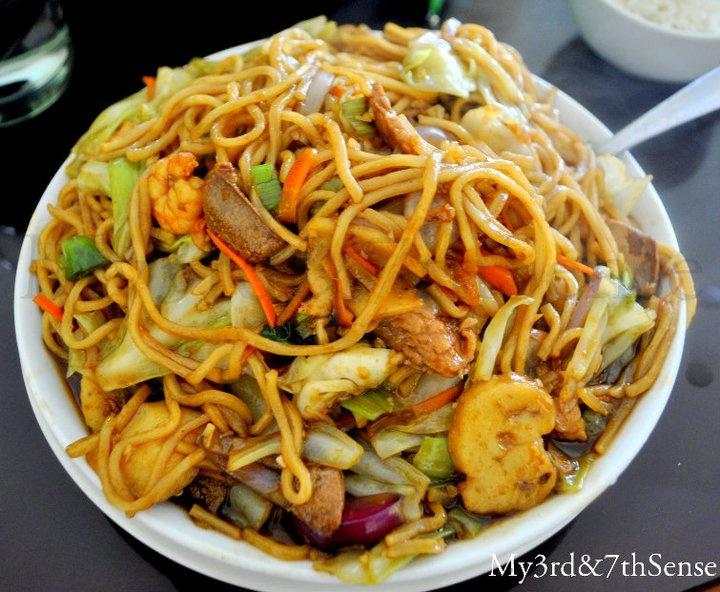pancit bihon: (20, 26, 686, 589)
